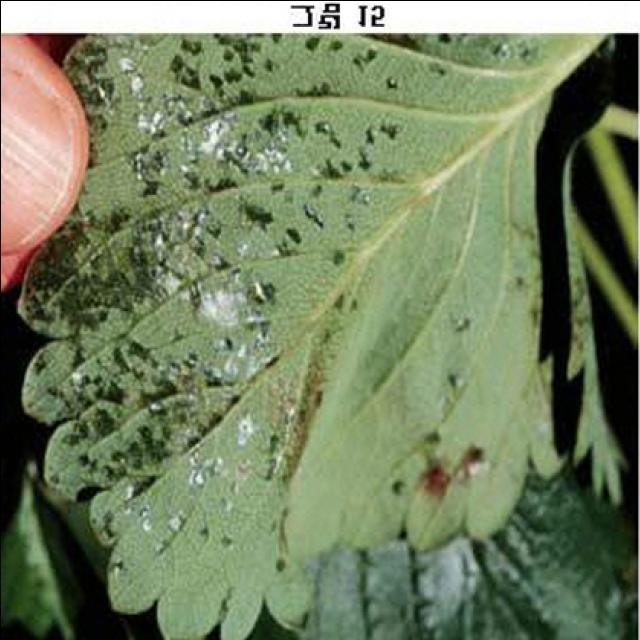Angular Leafspot: (16, 31, 571, 638)
